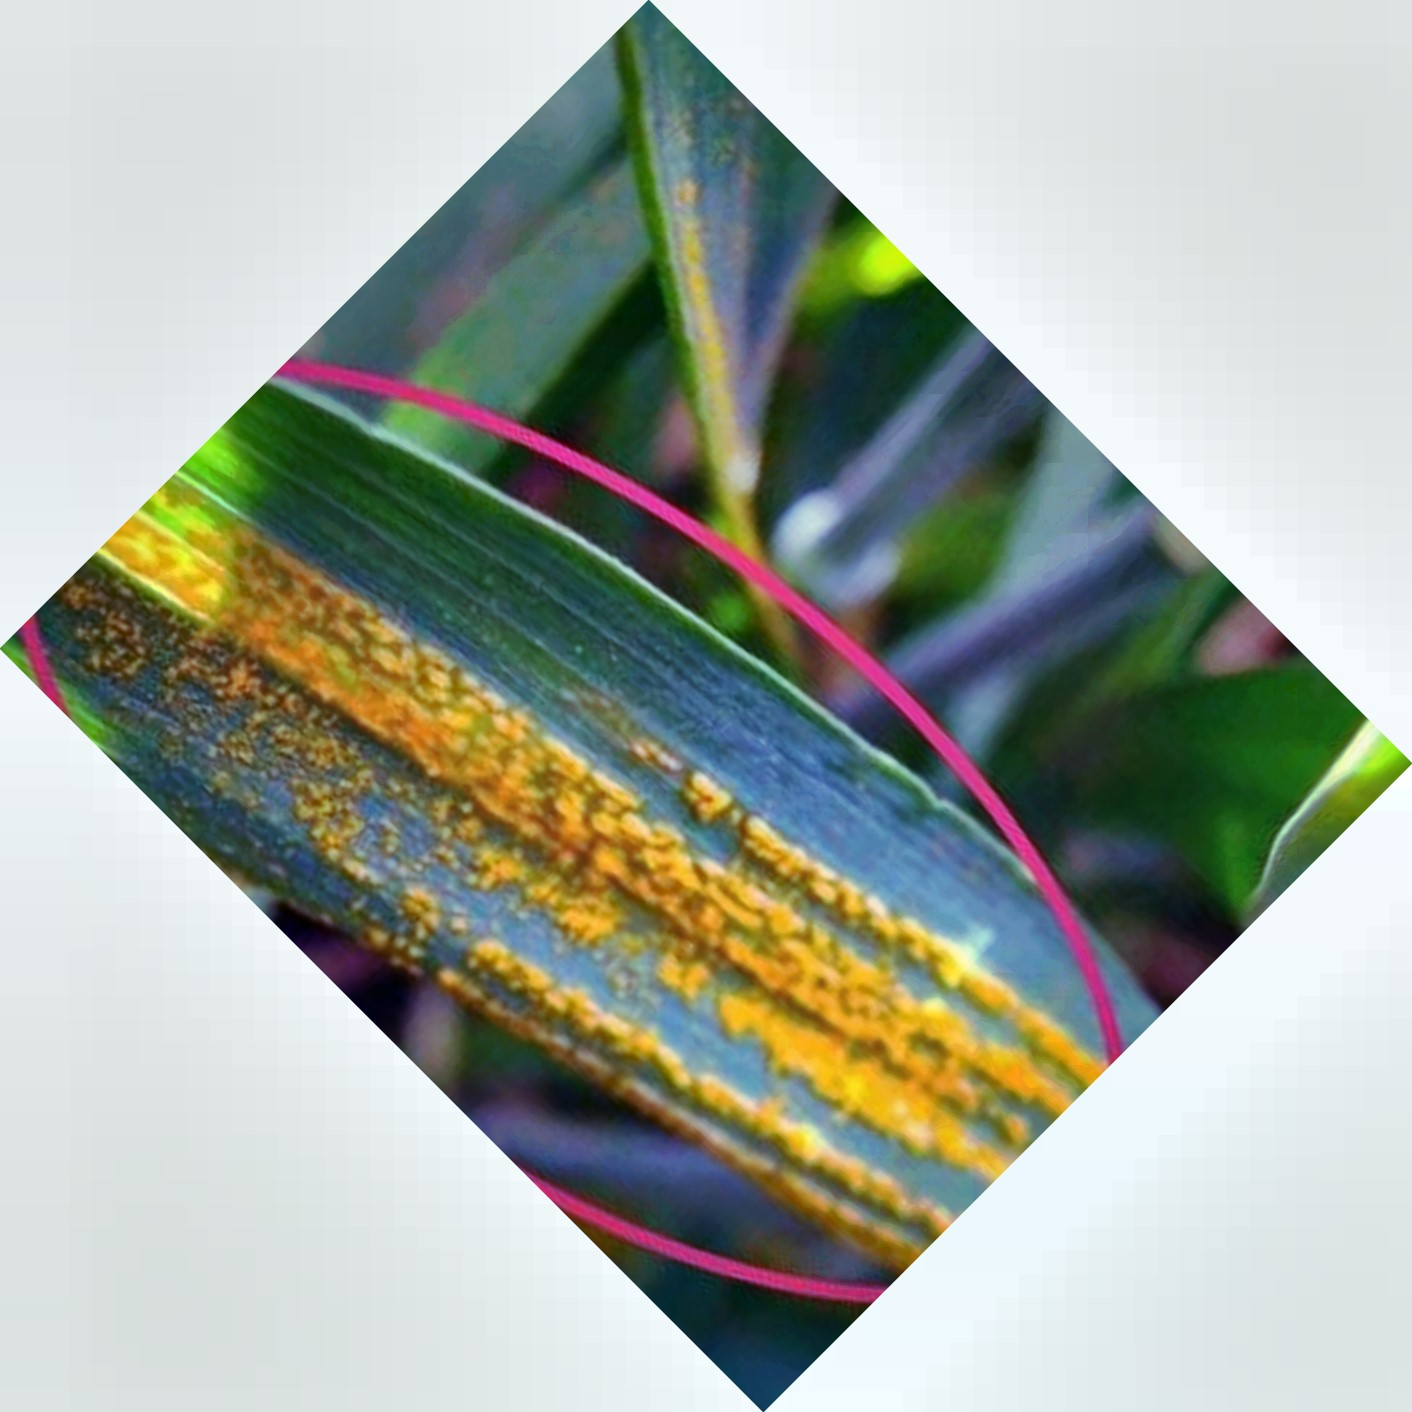Leaf Rust: (164, 537, 1081, 1218)
